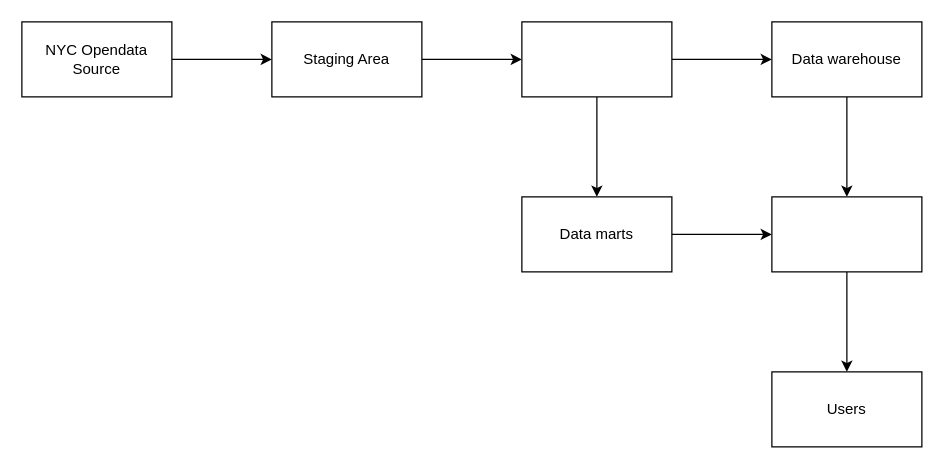
This 944x469 diagram has some shape labels left out. Here are the shapes that lost their labels. From the top down, the centre of each, then its label:
At point 596,59: "Cleaning and loading data".
At point 846,234: "BI tools".
